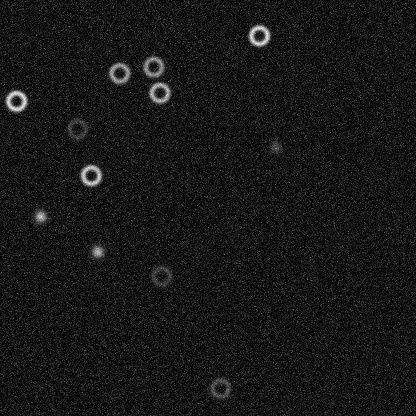Ring: (141, 54, 165, 78), (78, 163, 102, 187), (208, 376, 232, 400), (147, 80, 171, 104), (149, 263, 173, 287), (65, 116, 89, 140), (247, 23, 271, 47), (107, 60, 131, 84), (4, 88, 28, 112)
Spot: (89, 243, 105, 259), (267, 138, 283, 154), (32, 208, 48, 224)
